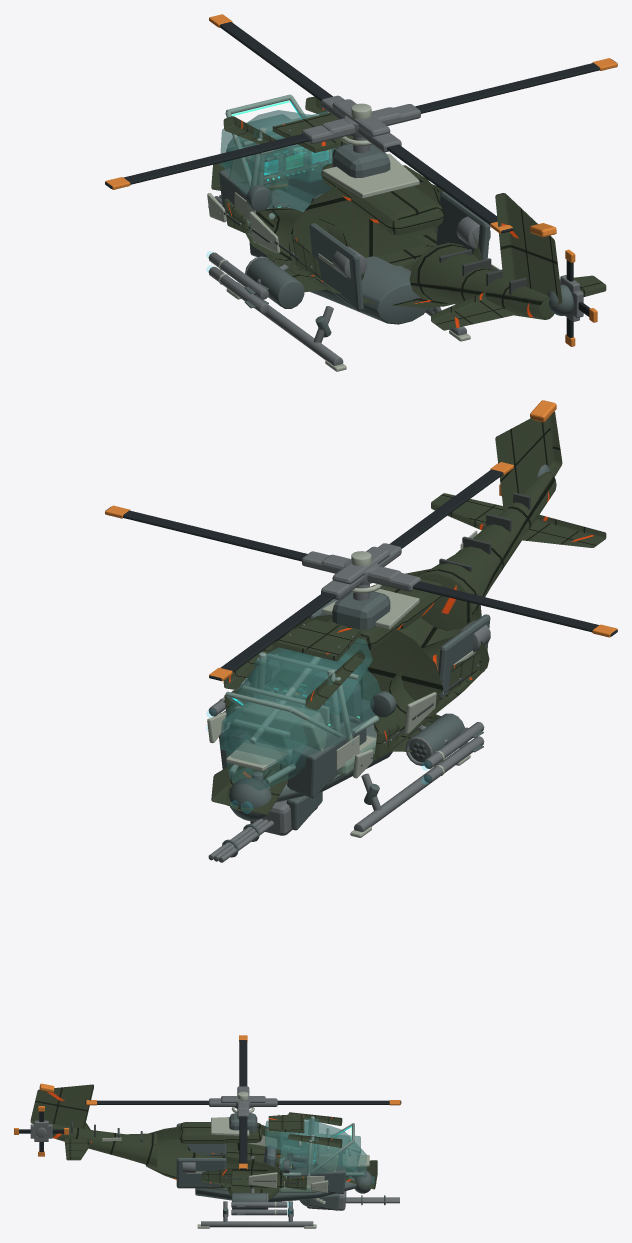
Rendered from pass65-chopper-gunner-lod0.glb.
3 renders of one model, top to bottom at view 1: azimuth 30°, elevation 25°; view 2: azimuth 150°, elevation 25°; view 3: azimuth 270°, elevation 25°, orthographic. The views are drawn at different scales.
Visible parts, largest first — view 1: Chopper_CanopyGlass_LOD0, Chopper_TailBoom_LOD0, Chopper_RearCabin_LOD0, Chopper_TailFin_LOD0, Chopper_VentralKeel_LOD0, Chopper_RearEngineCowling_LOD0, Chopper_MainBlade_2_LOD0, Chopper_MainBlade_1_LOD0, Chopper_MainBlade_3_LOD0, Chopper_TandemPilotCanopy_LOD0, Chopper_RearArmorDoor_-1_LOD0, Chopper_DorsalArmorPanel_LOD0 (+25 smaller); view 2: Chopper_CanopyGlass_LOD0, Chopper_TailBoom_LOD0, Chopper_TandemGunnerCanopy_LOD0, Chopper_TaperedFuselage_LOD0, Chopper_TandemPilotCanopy_LOD0, Chopper_TailFin_LOD0, Chopper_MainBlade_3_LOD0, Chopper_MainBlade_0_LOD0, Chopper_Dashboard_LOD0, Chopper_CheekArmor_-1_LOD0, Chopper_CanopyRoofArmor_LOD0, Chopper_EnginePod_-1_LOD0 (+17 smaller); view 3: Chopper_CanopyGlass_LOD0, Chopper_TailBoom_LOD0, Chopper_TailFin_LOD0, Chopper_RearCabin_LOD0, Chopper_TandemPilotCanopy_LOD0, Chopper_RearArmorDoor_1_LOD0, Chopper_EnginePod_1_LOD0, Chopper_MainBlade_2_LOD0, Chopper_VentralKeel_LOD0, Chopper_TandemGunnerCanopy_LOD0, Chopper_RearEngineCowling_LOD0, Chopper_Skid_1_LOD0 (+26 smaller).
Boxes of the visible parts, bbox=[...] form: Chopper_CanopyGlass_LOD0: bbox=[223, 110, 333, 215]; Chopper_TailBoom_LOD0: bbox=[409, 242, 553, 319]; Chopper_RearCabin_LOD0: bbox=[287, 176, 481, 307]; Chopper_TailFin_LOD0: bbox=[495, 193, 562, 306]; Chopper_VentralKeel_LOD0: bbox=[264, 185, 429, 324]; Chopper_RearEngineCowling_LOD0: bbox=[351, 186, 444, 235]; Chopper_MainBlade_2_LOD0: bbox=[219, 22, 511, 232]; Chopper_MainBlade_1_LOD0: bbox=[105, 63, 596, 188]; Chopper_MainBlade_3_LOD0: bbox=[105, 59, 617, 187]; Chopper_TandemPilotCanopy_LOD0: bbox=[250, 111, 334, 182]; Chopper_RearArmorDoor_-1_LOD0: bbox=[309, 223, 363, 311]; Chopper_DorsalArmorPanel_LOD0: bbox=[322, 153, 419, 198]; Chopper_CanopyGlass_LOD0: bbox=[224, 649, 380, 790]; Chopper_TailBoom_LOD0: bbox=[419, 471, 556, 630]; Chopper_TandemGunnerCanopy_LOD0: bbox=[220, 679, 319, 766]; Chopper_TaperedFuselage_LOD0: bbox=[226, 615, 443, 811]; Chopper_TandemPilotCanopy_LOD0: bbox=[250, 638, 372, 714]; Chopper_TailFin_LOD0: bbox=[495, 411, 562, 511]; Chopper_MainBlade_3_LOD0: bbox=[109, 507, 617, 636]; Chopper_MainBlade_0_LOD0: bbox=[209, 469, 503, 680]; Chopper_Dashboard_LOD0: bbox=[230, 699, 327, 750]; Chopper_CheekArmor_-1_LOD0: bbox=[287, 721, 366, 798]; Chopper_CanopyRoofArmor_LOD0: bbox=[272, 619, 360, 661]; Chopper_EnginePod_-1_LOD0: bbox=[373, 636, 489, 736]; Chopper_CanopyGlass_LOD0: bbox=[280, 1121, 366, 1179]; Chopper_TailBoom_LOD0: bbox=[48, 1123, 157, 1167]; Chopper_TailFin_LOD0: bbox=[30, 1084, 93, 1129]; Chopper_RearCabin_LOD0: bbox=[146, 1126, 239, 1191]; Chopper_TandemPilotCanopy_LOD0: bbox=[265, 1118, 318, 1158]; Chopper_RearArmorDoor_1_LOD0: bbox=[176, 1158, 226, 1188]; Chopper_EnginePod_1_LOD0: bbox=[193, 1156, 284, 1189]; Chopper_MainBlade_2_LOD0: bbox=[85, 1100, 400, 1104]; Chopper_VentralKeel_LOD0: bbox=[195, 1176, 356, 1201]; Chopper_TandemGunnerCanopy_LOD0: bbox=[310, 1133, 360, 1171]; Chopper_RearEngineCowling_LOD0: bbox=[179, 1122, 226, 1143]; Chopper_Skid_1_LOD0: bbox=[201, 1221, 313, 1227].
Bounding box in the file's own units: 7.45 × 3.28 × 14.25.
Materials: 19 (1 with a texture image).
